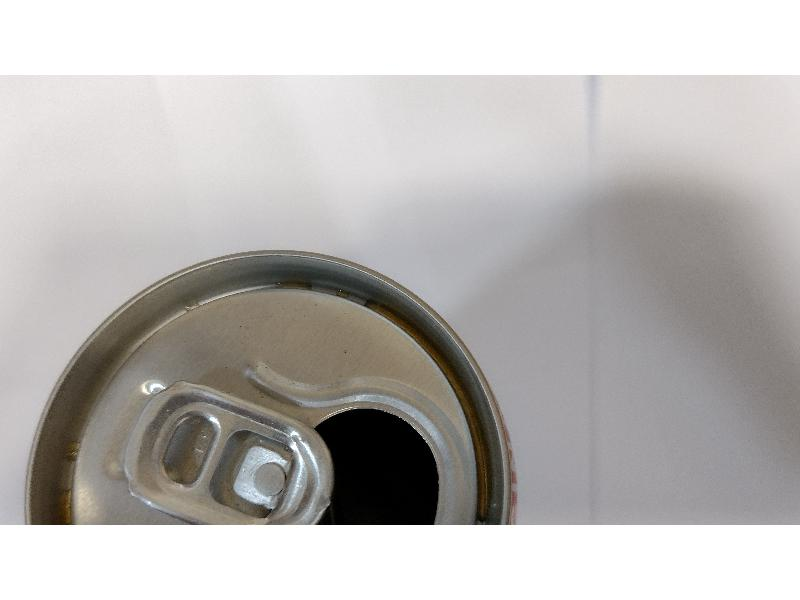can: (25, 248, 526, 525)
